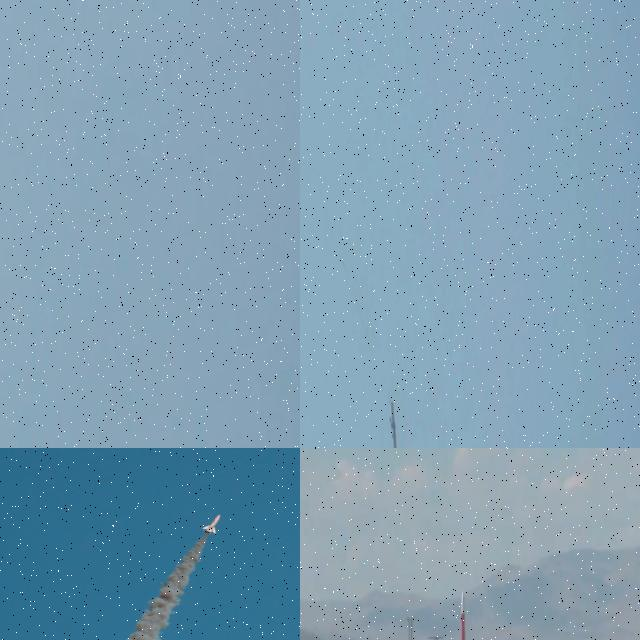Rocket: (389, 398, 402, 448), (457, 590, 467, 640), (201, 514, 221, 535)
